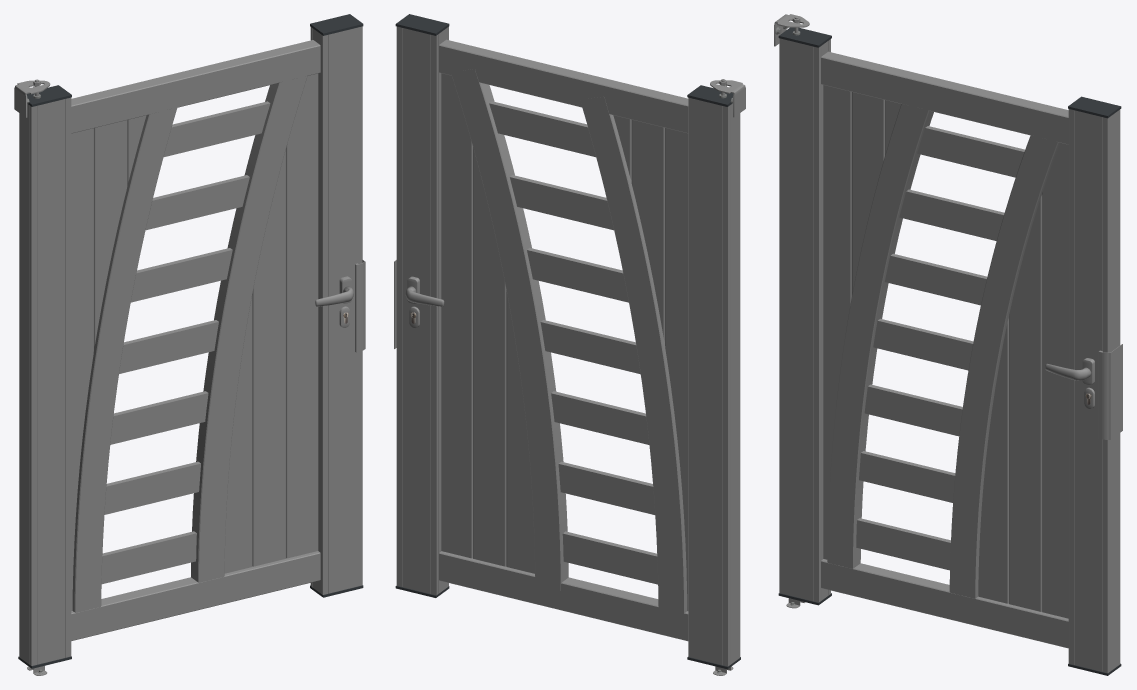
The picture shows the model from 3 angles, left to right: view 1: azimuth 30°, elevation 25°; view 2: azimuth 150°, elevation 25°; view 3: azimuth 330°, elevation 25°; orthographic projection.
Visible parts, largest first — view 1: Shape107412669, Shape107412643, Shape107412644, Shape212, Shape107412210, Shape103, Shape107412212, Shape107412213, Shape233, Shape232, Shape231, Shape230 (+7 smaller); view 2: Shape107412669, Shape107412643, Shape107412644, Shape212, Shape107412210, Shape103, Shape107412212, Shape107412213, Shape233, Shape232, Shape231, Shape230 (+6 smaller); view 3: Shape107412669, Shape107412644, Shape107412643, Shape107412210, Shape103, Shape212, Shape107412212, Shape107412213, Shape233, Shape232, Shape231, Shape230 (+6 smaller).
Boxes of the visible parts, x1=… form: Shape107412669: x1=224, y1=73, x2=318, y2=573; Shape107412643: x1=19, y1=97, x2=71, y2=665; Shape107412644: x1=310, y1=26, x2=362, y2=594; Shape212: x1=191, y1=76, x2=307, y2=582; Shape107412210: x1=72, y1=107, x2=177, y2=612; Shape103: x1=71, y1=115, x2=146, y2=610; Shape107412212: x1=71, y1=40, x2=320, y2=133; Shape107412213: x1=71, y1=551, x2=320, y2=640; Shape233: x1=163, y1=101, x2=270, y2=156; Shape232: x1=145, y1=175, x2=249, y2=230; Shape231: x1=131, y1=248, x2=232, y2=302; Shape230: x1=119, y1=320, x2=218, y2=373; Shape107412669: x1=441, y1=73, x2=534, y2=573; Shape107412643: x1=688, y1=97, x2=740, y2=666; Shape107412644: x1=396, y1=26, x2=448, y2=595; Shape212: x1=451, y1=69, x2=568, y2=594; Shape107412210: x1=580, y1=97, x2=687, y2=621; Shape103: x1=613, y1=115, x2=688, y2=610; Shape107412212: x1=439, y1=39, x2=688, y2=133; Shape107412213: x1=439, y1=551, x2=688, y2=641; Shape233: x1=489, y1=101, x2=595, y2=157; Shape232: x1=510, y1=175, x2=613, y2=230; Shape231: x1=527, y1=248, x2=628, y2=302; Shape230: x1=540, y1=320, x2=640, y2=374; Shape107412669: x1=978, y1=142, x2=1068, y2=618; Shape107412644: x1=1068, y1=109, x2=1120, y2=672; Shape107412643: x1=779, y1=38, x2=830, y2=602; Shape107412210: x1=827, y1=104, x2=933, y2=568; Shape103: x1=823, y1=85, x2=901, y2=559; Shape212: x1=949, y1=135, x2=1059, y2=598; Shape107412212: x1=821, y1=51, x2=1068, y2=144; Shape107412213: x1=821, y1=559, x2=1068, y2=648; Shape233: x1=917, y1=126, x2=1024, y2=177; Shape232: x1=899, y1=189, x2=1004, y2=240; Shape231: x1=884, y1=253, x2=987, y2=305; Shape230: x1=873, y1=318, x2=973, y2=370.
Size of the model in its own units: 1014 by 1688 by 171.
Materials: 8 (4 with a texture image).
